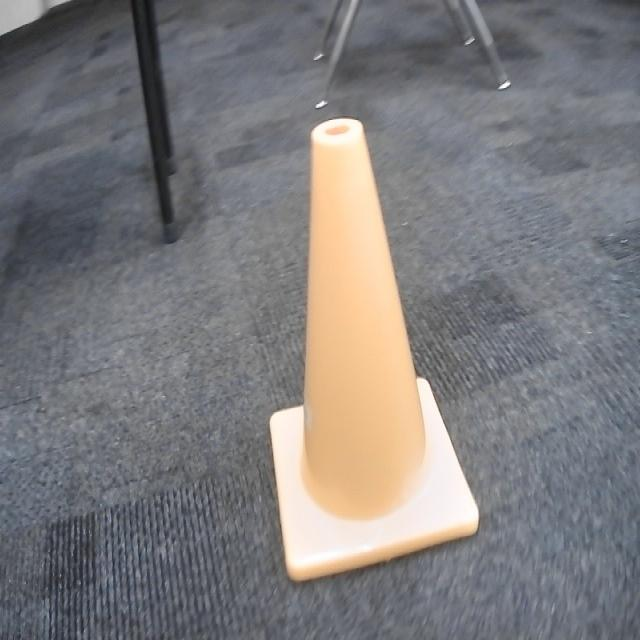cone: (267, 111, 481, 588)
